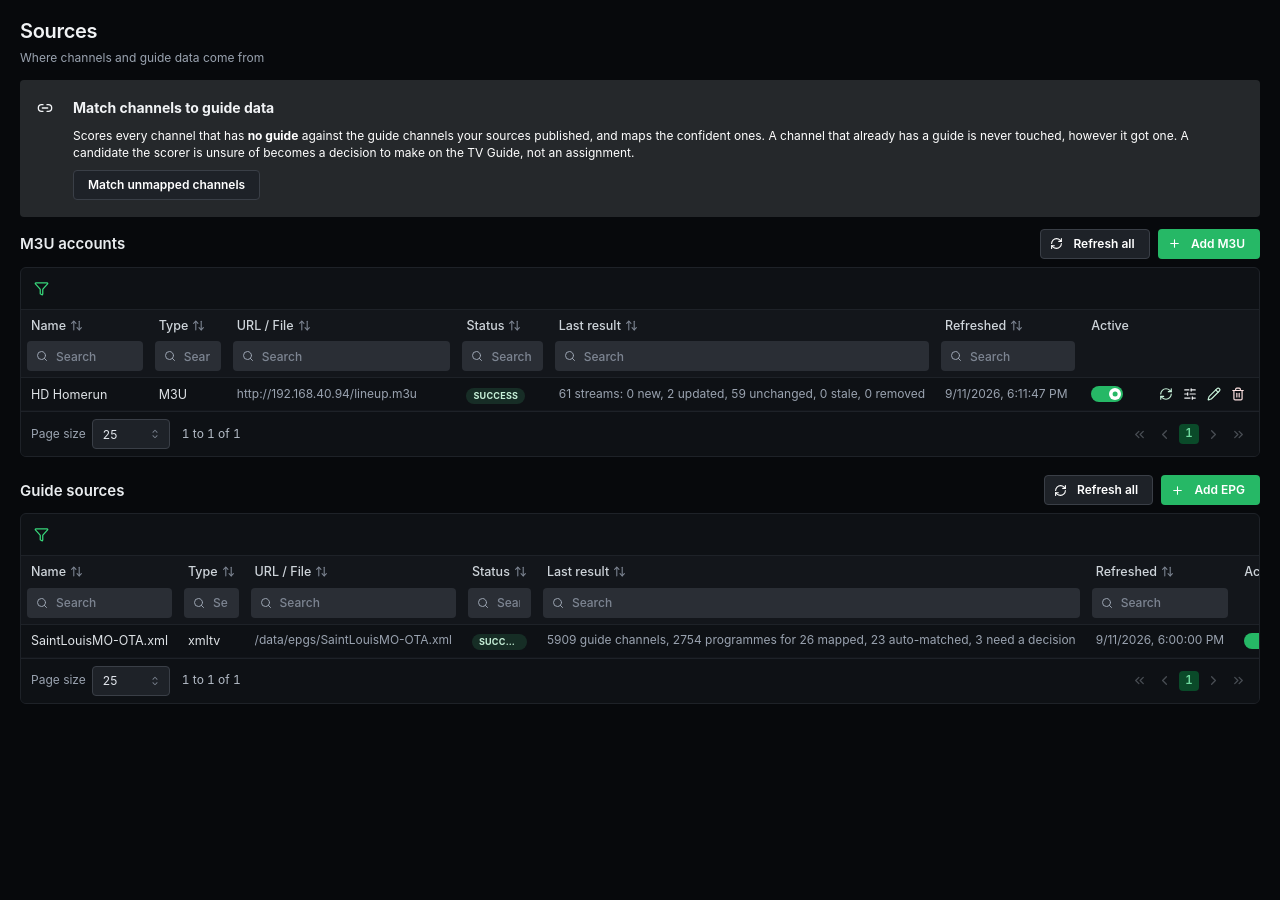
Test case: credentials › never puts a password anywhere, because the API never sends one
expect the text "HD Homerun" is shown: met, box 21,378 -> 149,411
What coordinates should you click on to do the following:
click the button named "Edit HD Homerun"
I would click on:
 (1214, 394)
Its box is 1203,383 -> 1225,405.
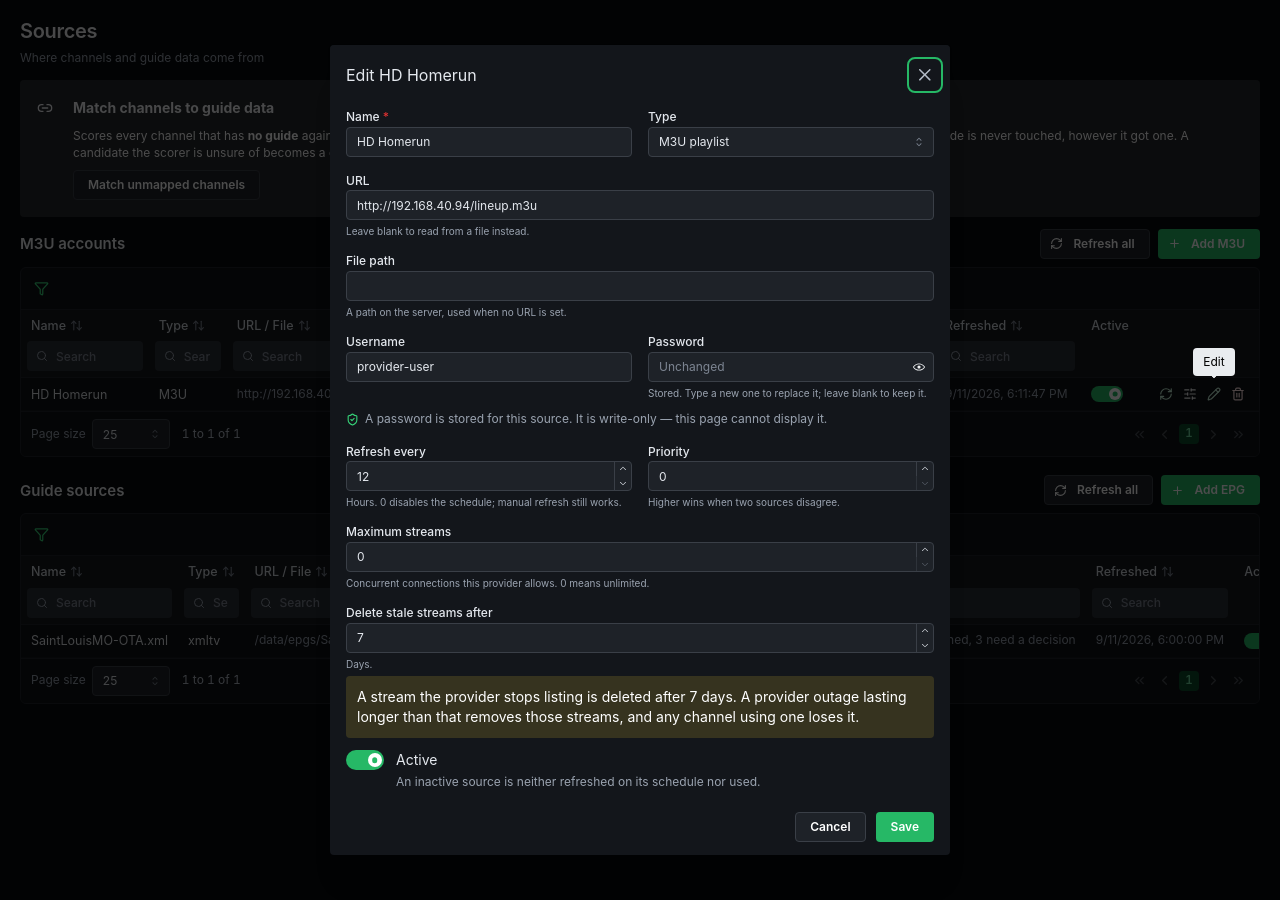
expect the password field labelled "Password" is empty: met, box 649,353 -> 933,381
expect the text "write-only" is shown: met, box 365,411 -> 827,426
